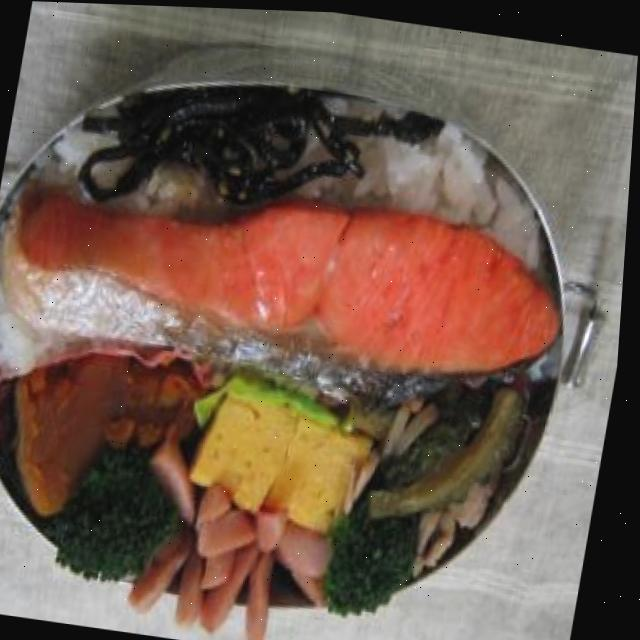熟制海鲜: (0, 139, 584, 427)
